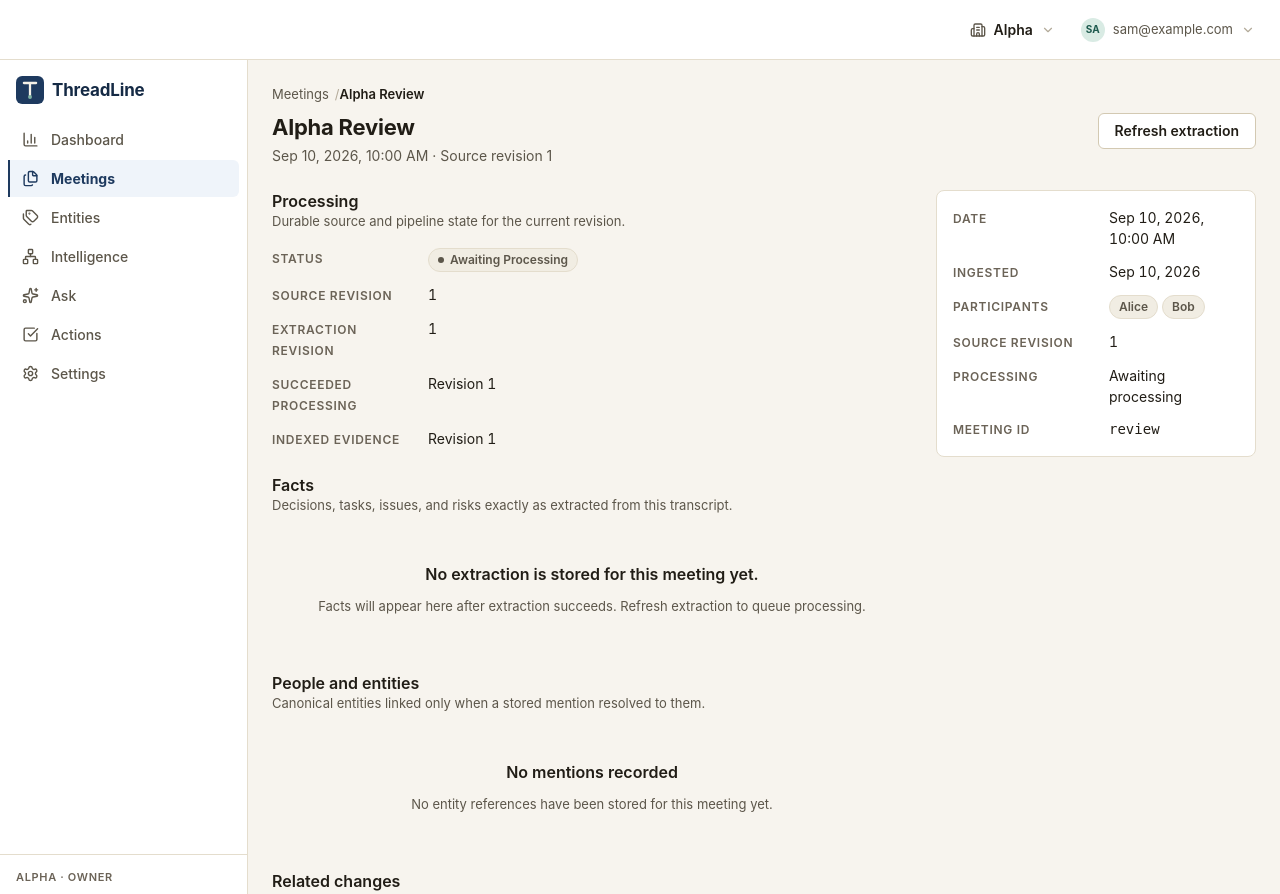
it: meeting detail › does not reuse Tenant A detail for Tenant B
The image size is (1280, 894).
Check: the heading "Alpha Review" is shown, box [272,114,415,140]
Click the button with aria-label "switch organisation": (1012, 30) [970,21,1055,38]
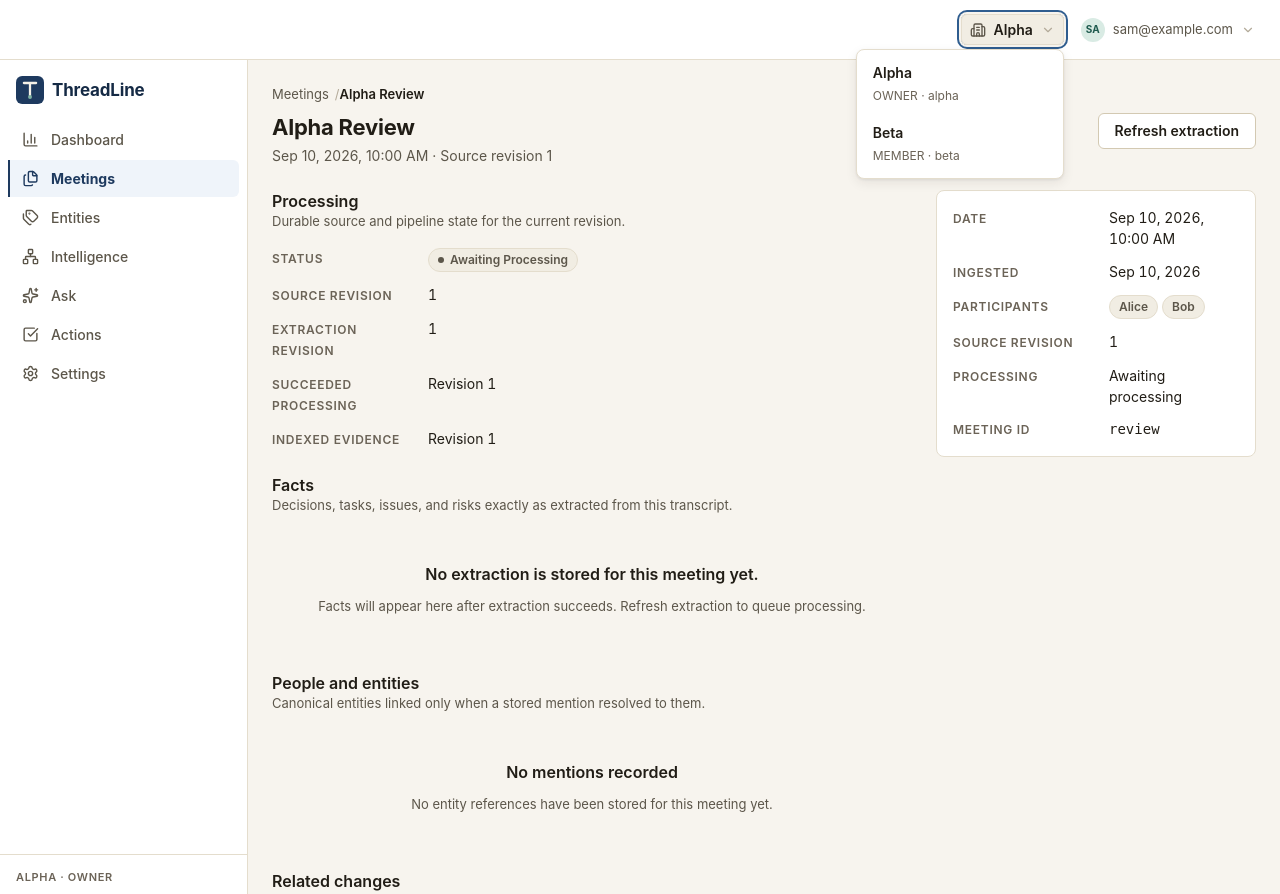
Click the menu item "Beta MEMBER · beta": (960, 144) [861,114,1059,174]
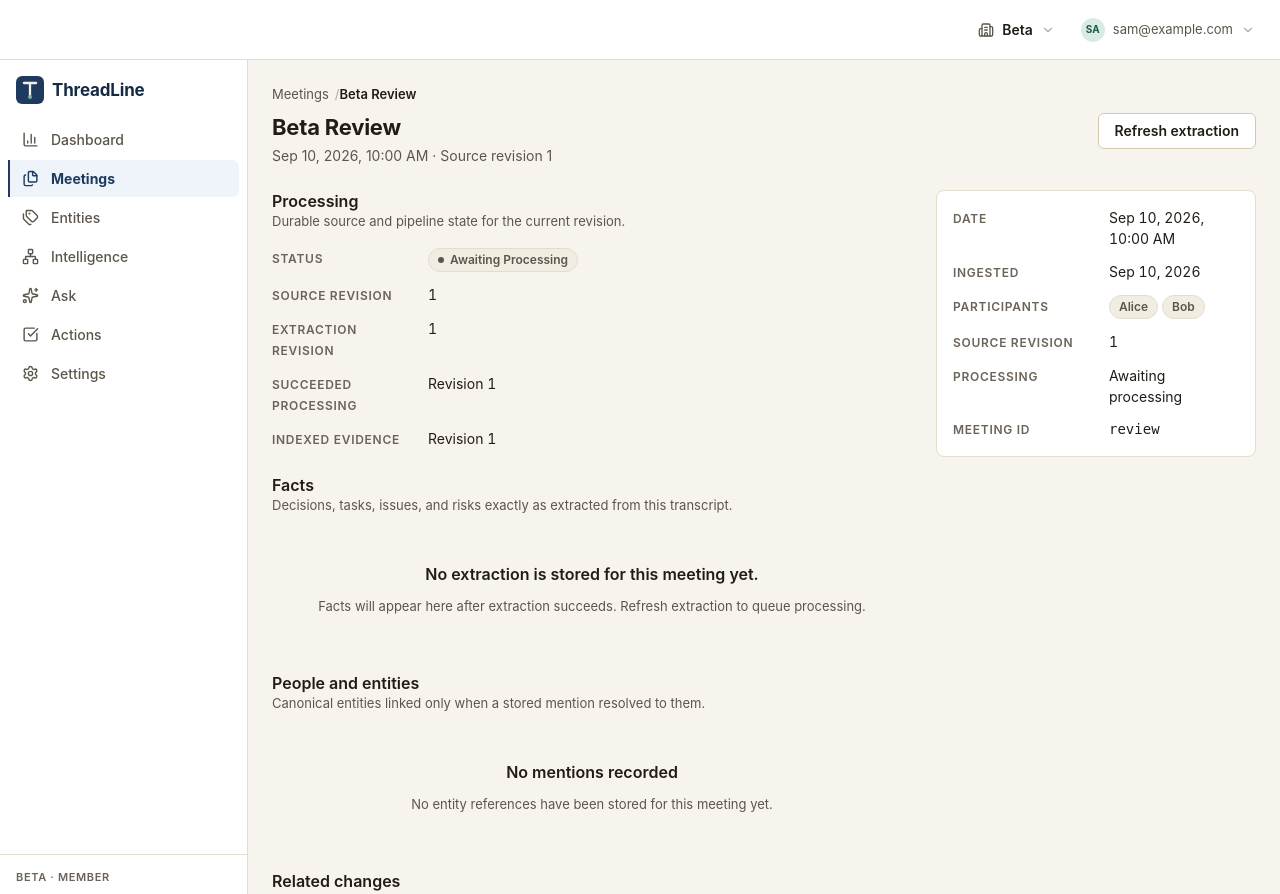
Check: the heading "Beta Review" is shown, box [272,114,401,140]
Check: the text "Alpha Review" is gone
